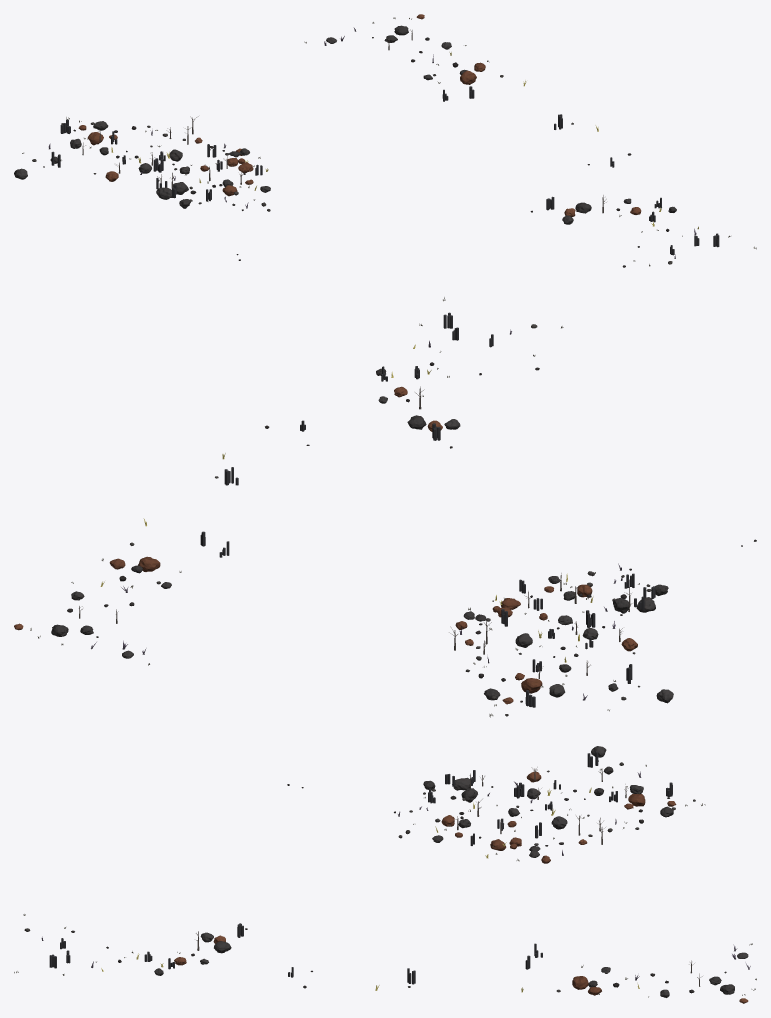
File: ash_land_scatter_c20_30.glb
3 renders of one model, top to bottom at view 1: azimuth 30°, elevation 25°; view 2: azimuth 150°, elevation 25°; view 3: azimuth 270°, elevation 25°, orthographic. The views are drawn at different scales.
Parts seen in each view (by area): view 1: ash_land_scatter_c20_30; view 2: ash_land_scatter_c20_30; view 3: ash_land_scatter_c20_30.
Boxes of the visible parts, bbox=[...] form: ash_land_scatter_c20_30: bbox=[14, 14, 756, 267]; ash_land_scatter_c20_30: bbox=[14, 297, 756, 717]; ash_land_scatter_c20_30: bbox=[14, 746, 756, 1003].
Bounding box in the file's own units: 201 × 14.6 × 256.
